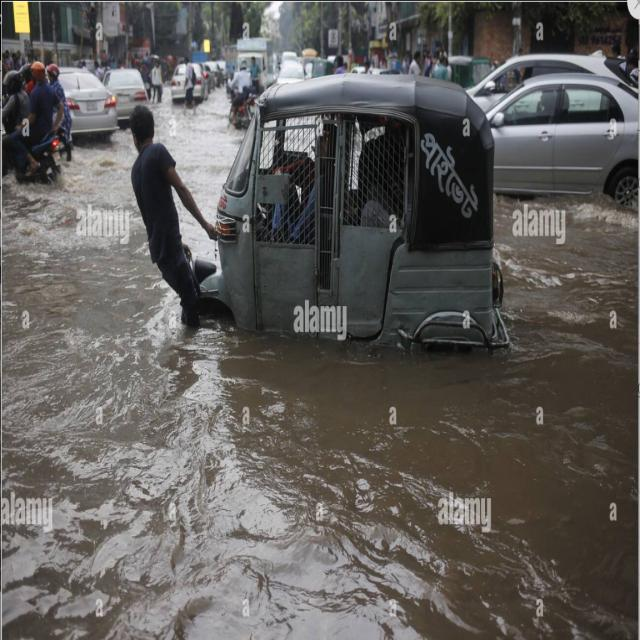cng: (186, 34, 532, 403)
